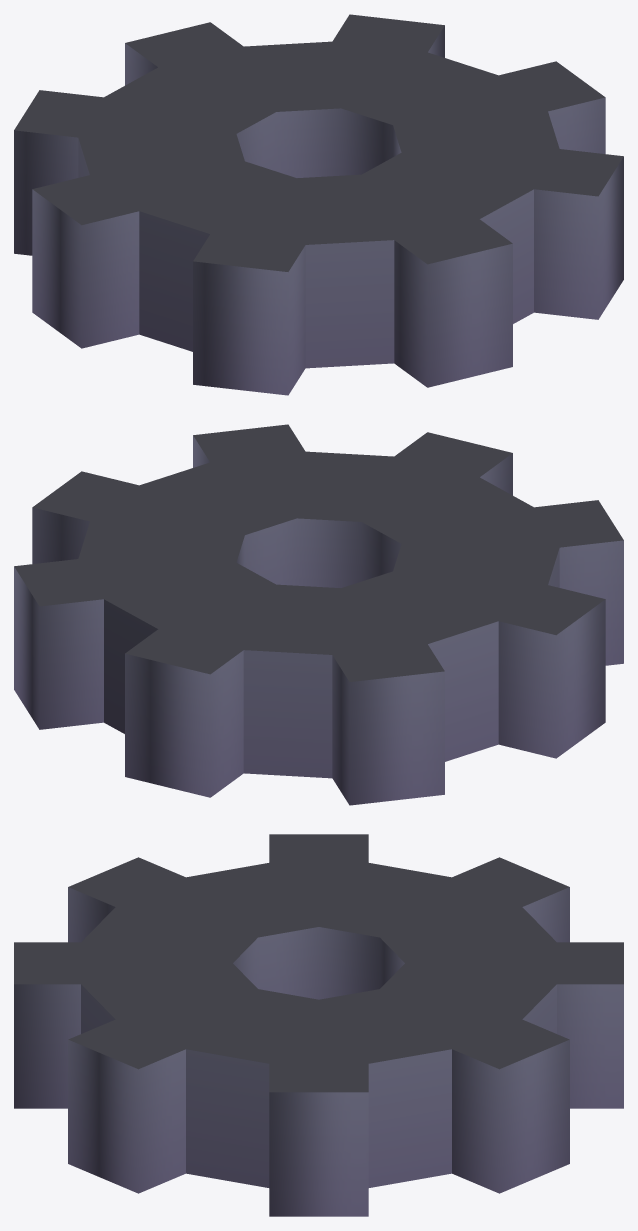
File: cog-a.glb
3 renders of one model, top to bottom at view 1: azimuth 30°, elevation 25°; view 2: azimuth 150°, elevation 25°; view 3: azimuth 270°, elevation 25°, orthographic.
Parts seen in each view (by area): view 1: cog-a; view 2: cog-a; view 3: cog-a.
Part boxes in pixels (bbox=[...]): cog-a: bbox=[14, 14, 623, 395]; cog-a: bbox=[14, 424, 623, 805]; cog-a: bbox=[14, 834, 623, 1216].
Size of the model in its own units: 1 by 0.225 by 1.
Materials: 1 (1 with a texture image).
